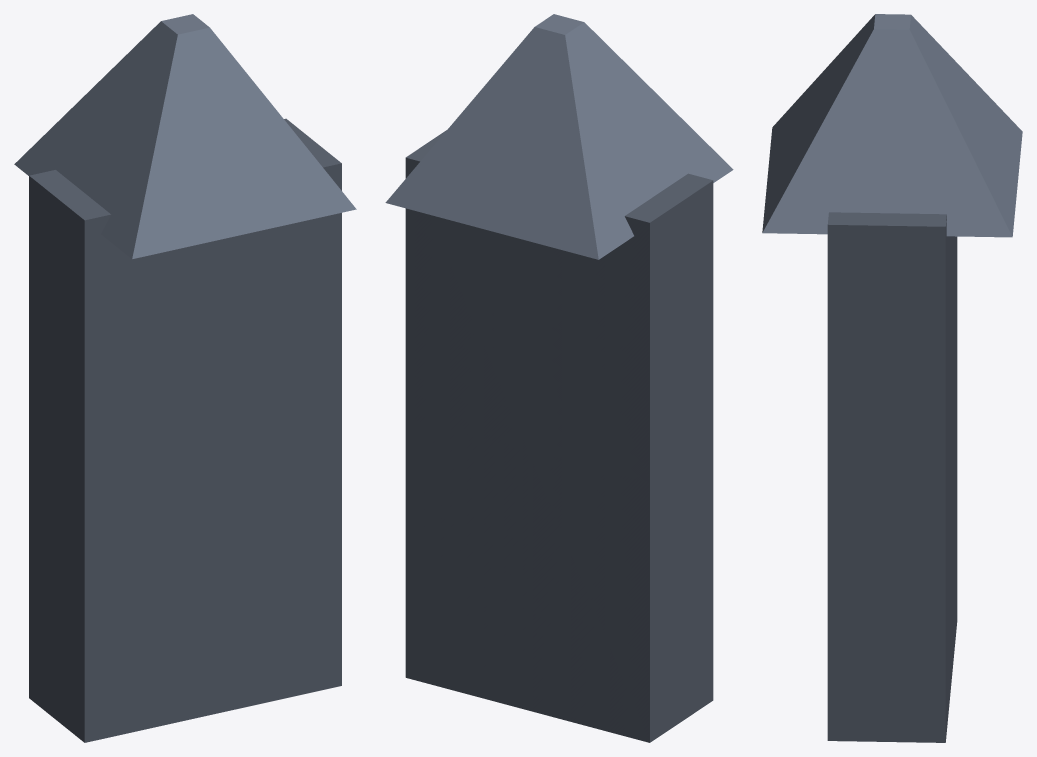
The model's file is EXT_GraveMarker_02.glb.
3 renders of one model, left to right at view 1: azimuth 30°, elevation 25°; view 2: azimuth 150°, elevation 25°; view 3: azimuth 270°, elevation 25°, orthographic.
Visible parts, largest first — view 1: EXT_GraveMarker_02; view 2: EXT_GraveMarker_02; view 3: EXT_GraveMarker_02.
Part boxes in pixels (x1,y1,x2,y2): EXT_GraveMarker_02: [14, 14, 356, 742]; EXT_GraveMarker_02: [385, 14, 733, 742]; EXT_GraveMarker_02: [762, 14, 1022, 742].
Bounding box in the file's own units: 0.7597 × 1.9 × 0.679.
